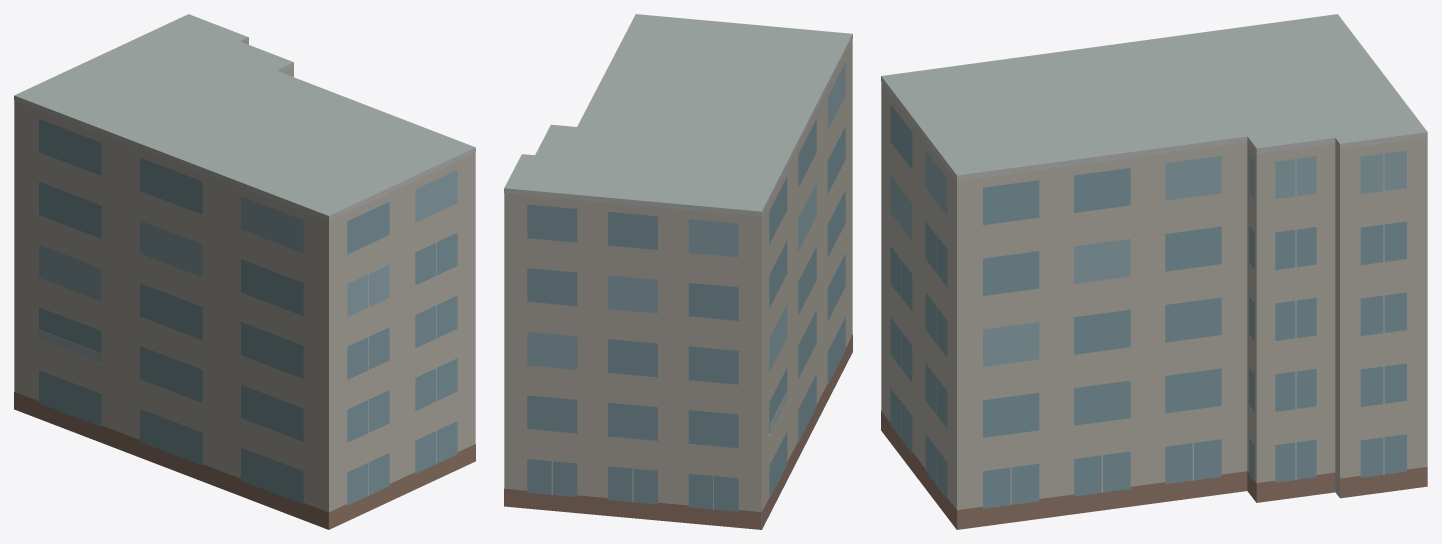
Rendered from survey-upis-32536116.glb.
The picture shows the model from 3 angles, left to right: view 1: azimuth 30°, elevation 25°; view 2: azimuth 150°, elevation 25°; view 3: azimuth 270°, elevation 25°; orthographic projection. The views are drawn at different scales.
Parts seen in each view (by area): view 1: survey-upis-32536116.tmp; view 2: survey-upis-32536116.tmp; view 3: survey-upis-32536116.tmp.
Part boxes in pixels (box(x1,y1,x2,y2)): survey-upis-32536116.tmp: box(14, 14, 475, 529); survey-upis-32536116.tmp: box(504, 14, 852, 529); survey-upis-32536116.tmp: box(881, 14, 1427, 529).
Bounding box in the file's own units: 14.91 × 15.25 × 21.32.
